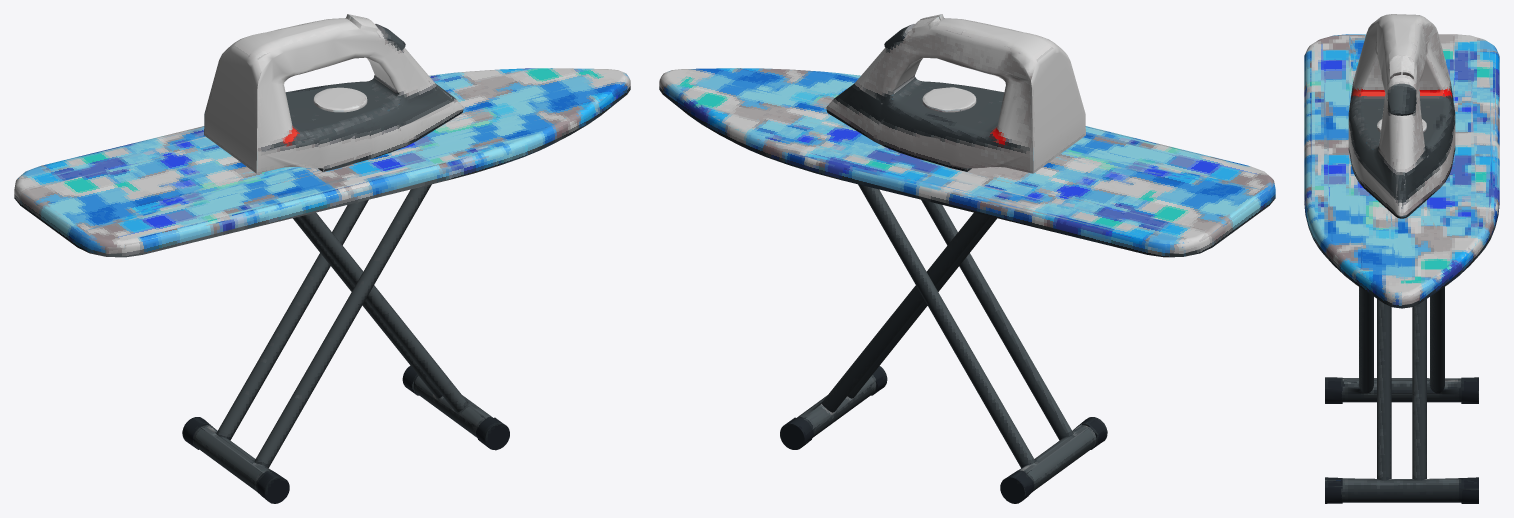
The model's file is ironing_board.glb.
3 views of the same model, side by side, from view 1: azimuth 30°, elevation 25°; view 2: azimuth 150°, elevation 25°; view 3: azimuth 270°, elevation 25° (orthographic). The views are drawn at different scales.
Visible parts, largest first — view 1: mesh; view 2: mesh; view 3: mesh.
Part boxes in pixels (x1=…): mesh: x1=14, y1=14, x2=630, y2=503; mesh: x1=659, y1=14, x2=1275, y2=503; mesh: x1=1304, y1=14, x2=1499, y2=503.
Bounding box in the file's own units: 1.27 × 0.9 × 0.3989.
1 material, 1 textured.
